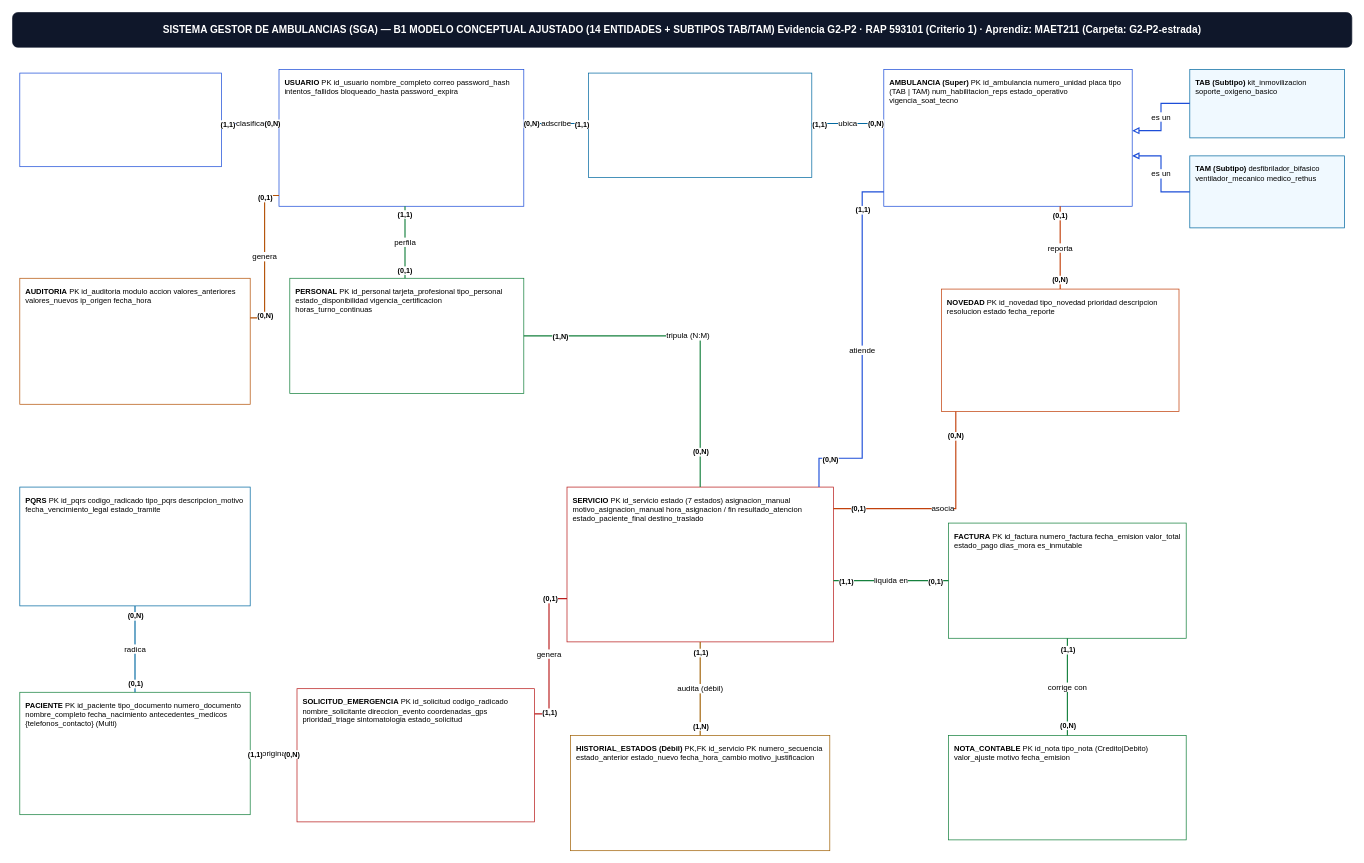
Some shapes in this 1364 by 863 pixel diagram are drawn without their labels. The box of each missing label's shape, as (x1, y1, x2, y2) in pixels:
ROL PK id_rol nombre_rol descripcion activo: (19, 72, 221, 167)
SEDE PK id_sede codigo_sede nombre_sede ciudad direccion: (588, 72, 812, 177)
